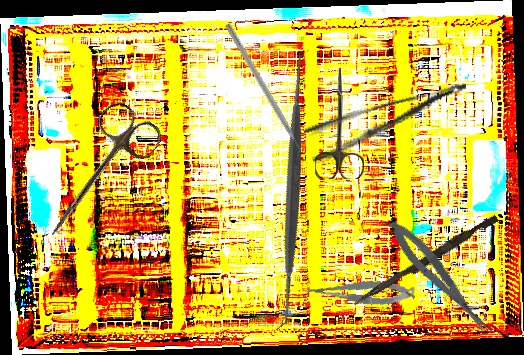Chopper: (217, 22, 308, 164)
Dressing Forceps: (302, 79, 476, 165)
Iris Scissors: (28, 96, 167, 256), (313, 67, 364, 180)
Micro Scissor: (382, 213, 498, 345), (303, 271, 417, 311)
Pusher: (353, 210, 499, 312)
Spatula Surgical: (152, 49, 433, 331)
